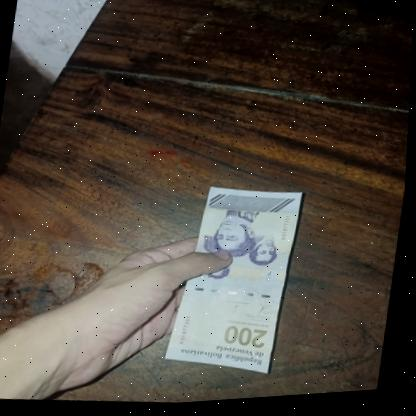two_hundred-front-vef: (165, 182, 306, 385)
